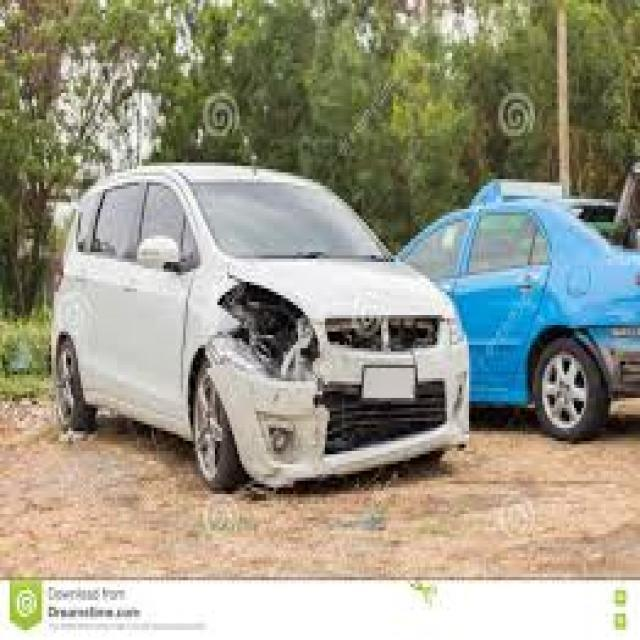damaged-head-light: (218, 284, 314, 356)
